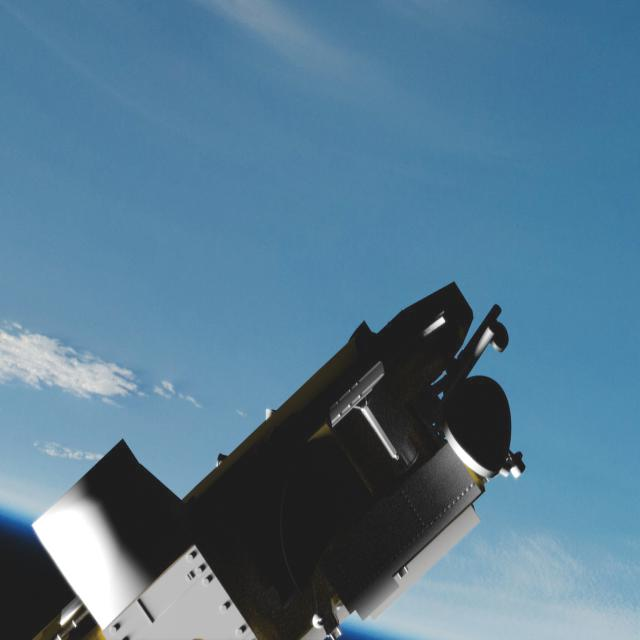satellite: (5, 235, 553, 640)
